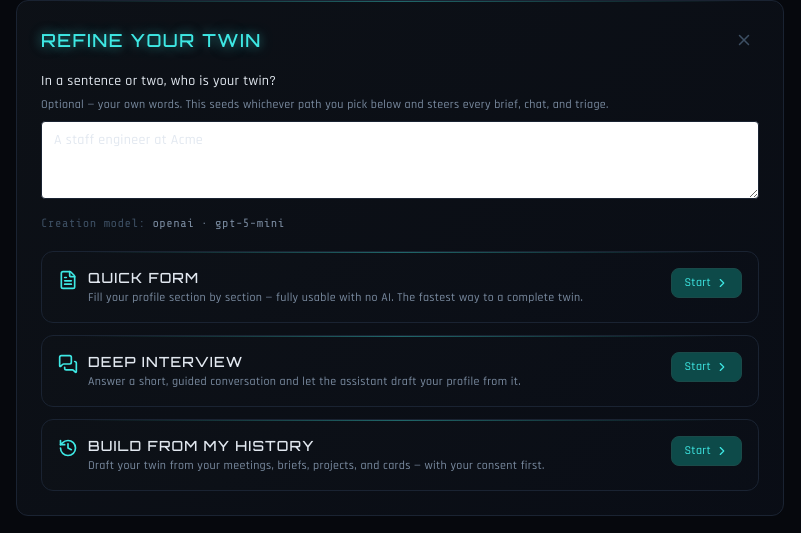
Scenario: TwinWizard — Quick form pre-fill on re-run › seeds each step from the existing profile (refine, not restart)
expect the heading "Refine your twin" is shown: met, box left=41, top=26, right=262, bottom=54
Click the button with aria-label "start quick form".
click(707, 283)  # box left=671, top=268, right=742, bottom=298
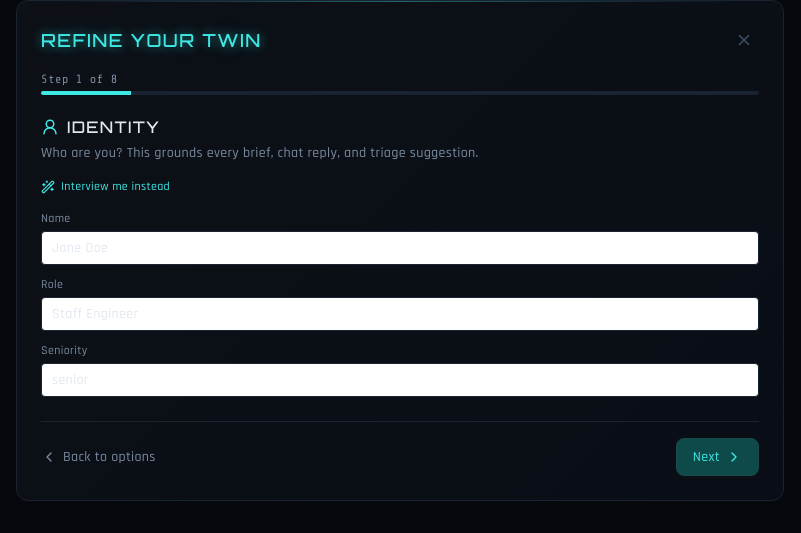
expect the field showing "Jane Doe" is shown: met, box left=41, top=231, right=759, bottom=265
Click the button "Next".
click(717, 457)  # box left=676, top=438, right=759, bottom=476
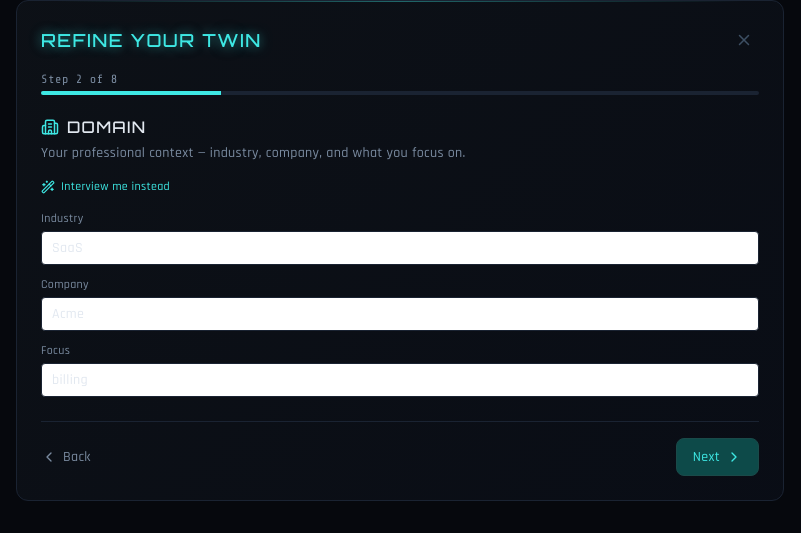
expect the field showing "Acme" is shown: met, box left=41, top=297, right=759, bottom=331
